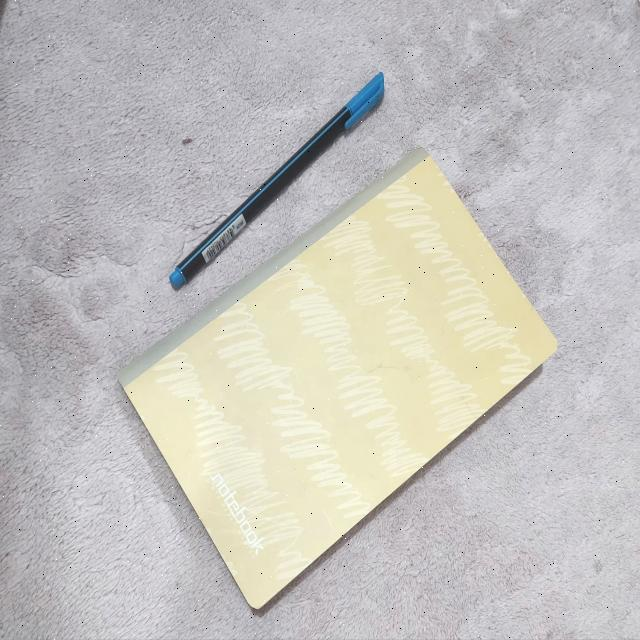defter: (113, 143, 561, 613)
kalem1: (169, 71, 384, 289)
